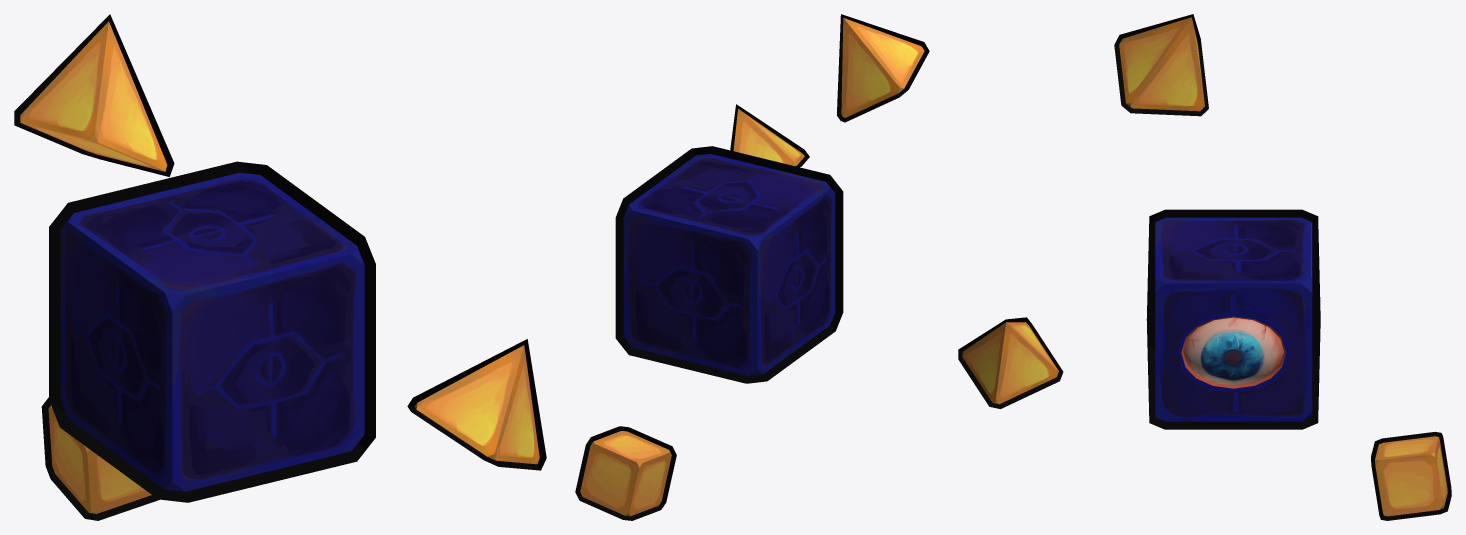
File: eyerah 1.fbx
The picture shows the model from 3 angles, left to right: view 1: azimuth 30°, elevation 25°; view 2: azimuth 150°, elevation 25°; view 3: azimuth 270°, elevation 25°; orthographic projection. The views are drawn at different scales.
Visible parts, largest first — view 1: Main Body, Exclamation Triangle.001, Exclamation Triangle, Exclamation Square; view 2: Main Body, Exclamation Square, Exclamation Triangle.001, Exclamation Triangle; view 3: Main Body, Exclamation Triangle.001, Exclamation Triangle, Exclamation Square, Eye.
Boxes of the visible parts, <box> form: Main Body: <box>49,161,375,502</box>; Exclamation Triangle.001: <box>14,14,174,176</box>; Exclamation Triangle: <box>407,339,546,470</box>; Exclamation Square: <box>41,397,159,520</box>; Main Body: <box>615,146,843,383</box>; Exclamation Square: <box>575,426,676,520</box>; Exclamation Triangle.001: <box>837,14,929,122</box>; Exclamation Triangle: <box>730,104,809,167</box>; Main Body: <box>1146,209,1320,429</box>; Exclamation Triangle.001: <box>1114,14,1208,116</box>; Exclamation Triangle: <box>958,317,1063,408</box>; Exclamation Square: <box>1371,431,1451,520</box>; Eye: <box>1183,317,1283,384</box>.
Size of the model in its own units: 188 by 292 by 292.
